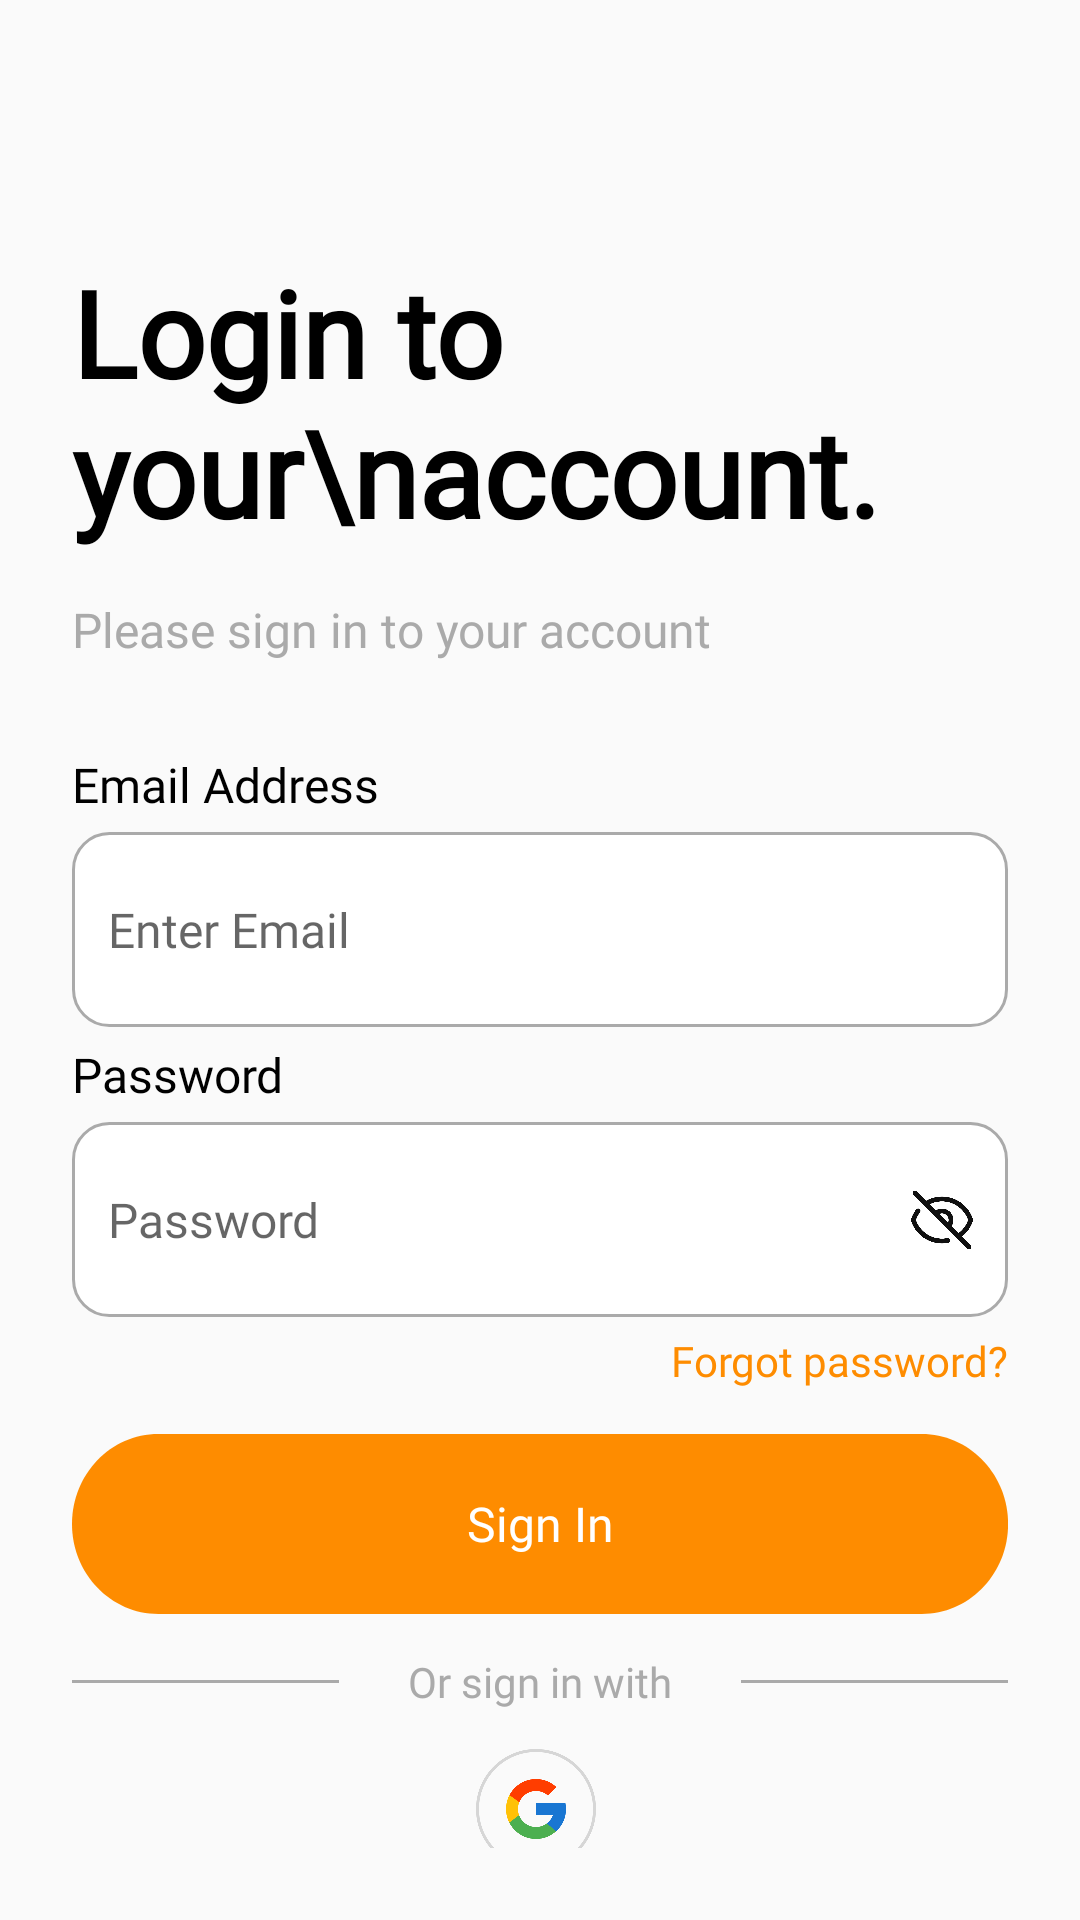

Screen size 1080x1920. Icon name, then its box in pixels as [x1=x1, y1=y1, x2=x2, y2=y2]:
show pass: [x1=911, y1=1191, x2=973, y2=1249]
